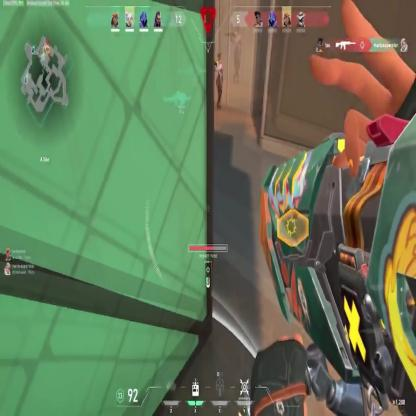enemy: (214, 51, 224, 110)
enemy_head: (217, 52, 221, 64)
